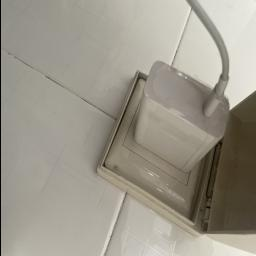outlet: (88, 64, 232, 241)
